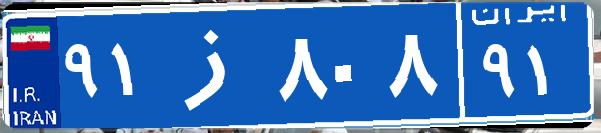0: (330, 28, 385, 110)
1: (110, 28, 158, 105), (525, 38, 570, 115)
8: (385, 28, 445, 110), (273, 28, 330, 110)
9: (57, 26, 110, 107), (475, 38, 525, 113)
ز: (158, 15, 273, 115)
